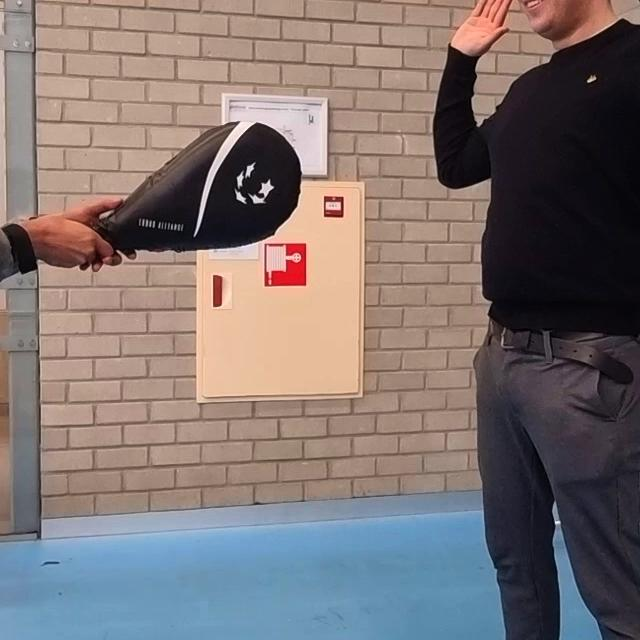paddle: (85, 121, 302, 254)
